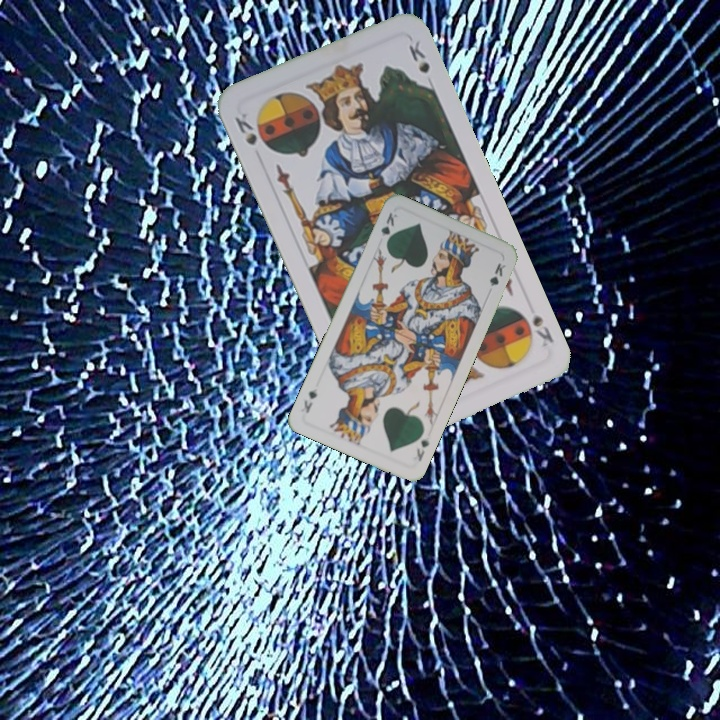GK: (377, 208, 400, 248), (412, 433, 432, 464)
SK: (528, 310, 556, 349), (230, 112, 260, 148)
